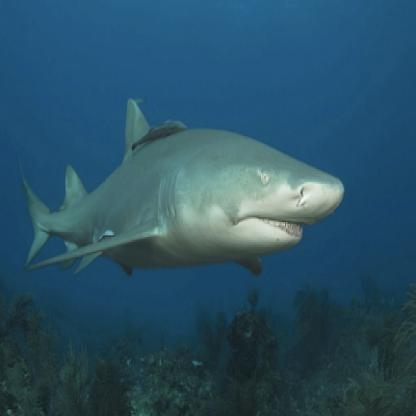Shark -Selachimorpha-: (18, 100, 344, 278)
